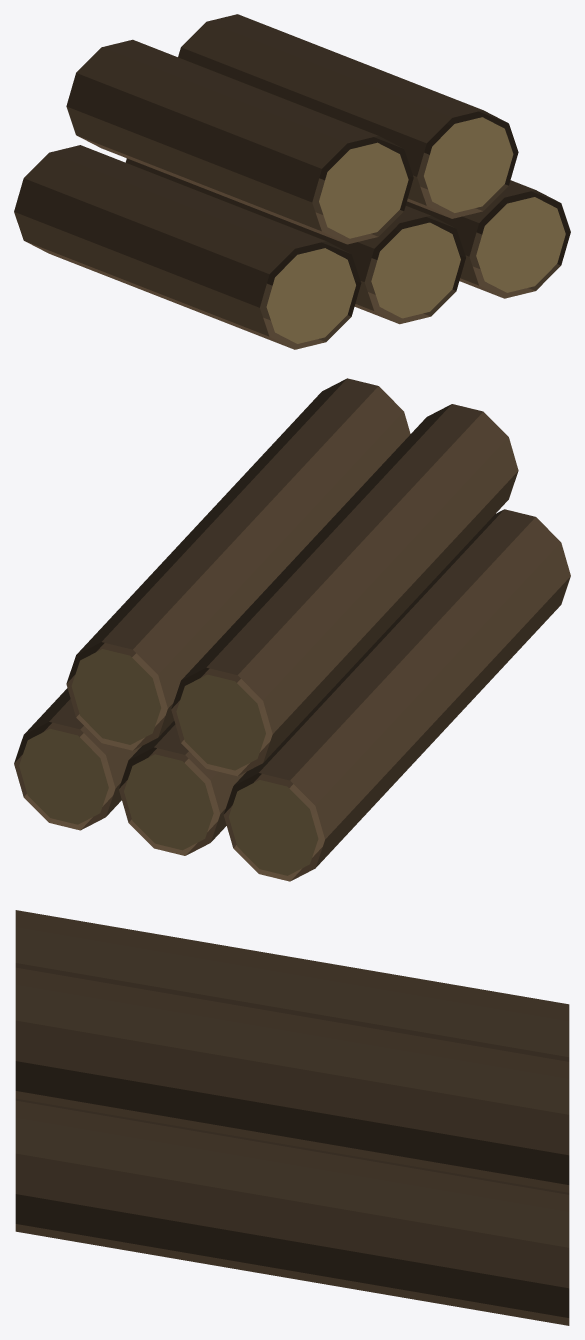
3 views of the same model, one above another, from view 1: azimuth 30°, elevation 25°; view 2: azimuth 150°, elevation 25°; view 3: azimuth 270°, elevation 25° (orthographic). The views are drawn at different scales.
Parts seen in each view (by area): view 1: f7e5c99b5d7adad5577c7d4d33269577626e418b5e60ce4de0b38d6ed718; view 2: f7e5c99b5d7adad5577c7d4d33269577626e418b5e60ce4de0b38d6ed718; view 3: f7e5c99b5d7adad5577c7d4d33269577626e418b5e60ce4de0b38d6ed718.
Part boxes in pixels (left/top/right/bottom): f7e5c99b5d7adad5577c7d4d33269577626e418b5e60ce4de0b38d6ed718: left=14, top=14, right=570, bottom=349; f7e5c99b5d7adad5577c7d4d33269577626e418b5e60ce4de0b38d6ed718: left=14, top=378, right=570, bottom=881; f7e5c99b5d7adad5577c7d4d33269577626e418b5e60ce4de0b38d6ed718: left=15, top=910, right=569, bottom=1325.
Bounding box in the file's own units: 0.95 × 0.8093 × 1.31.
